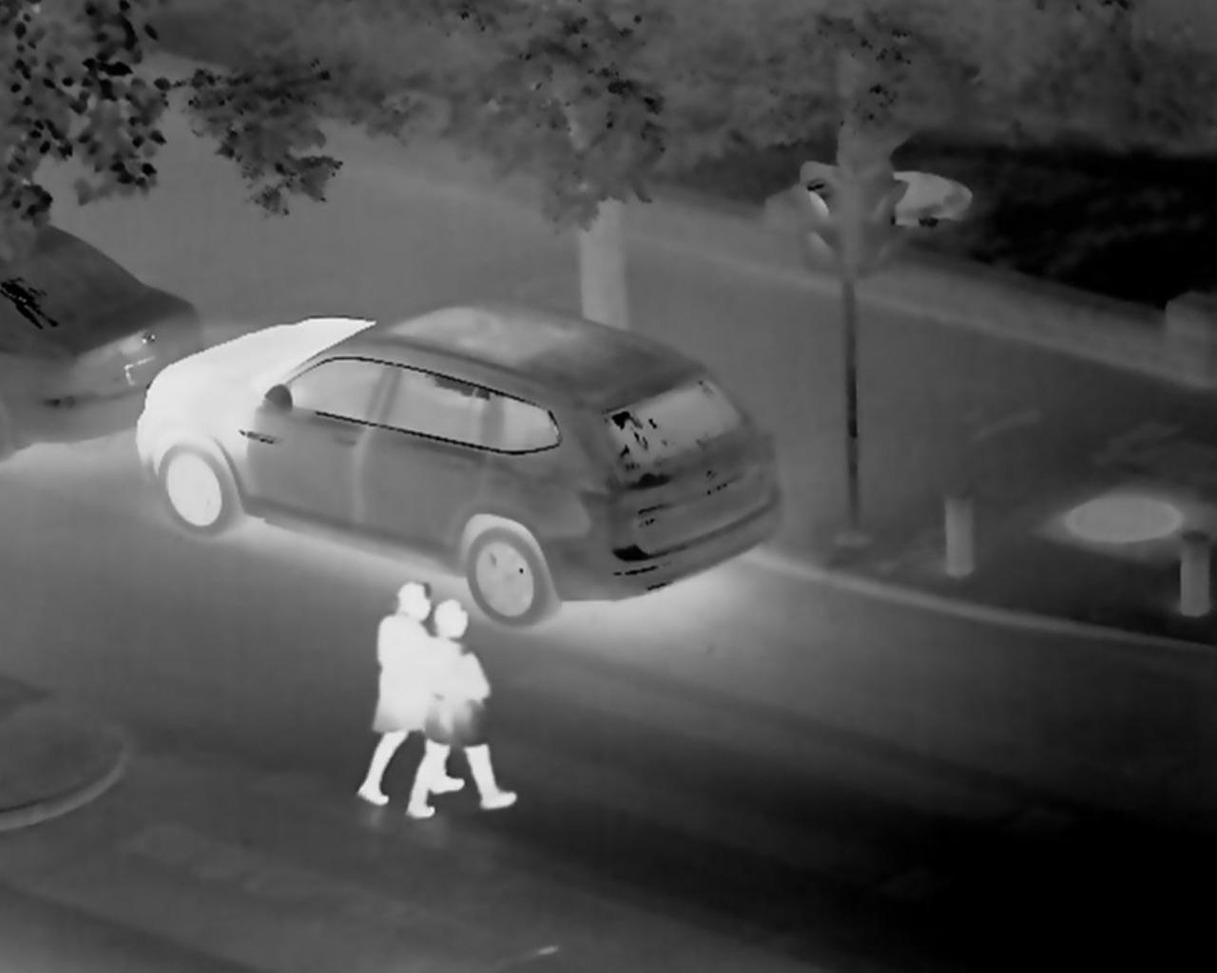person: (417, 587, 521, 848), (376, 560, 408, 801)
